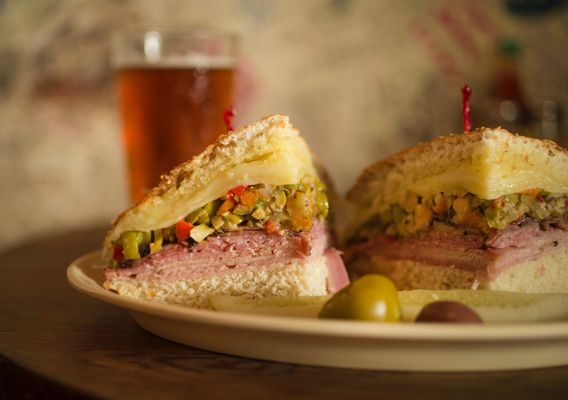soup: (98, 112, 349, 312), (336, 126, 568, 293)
